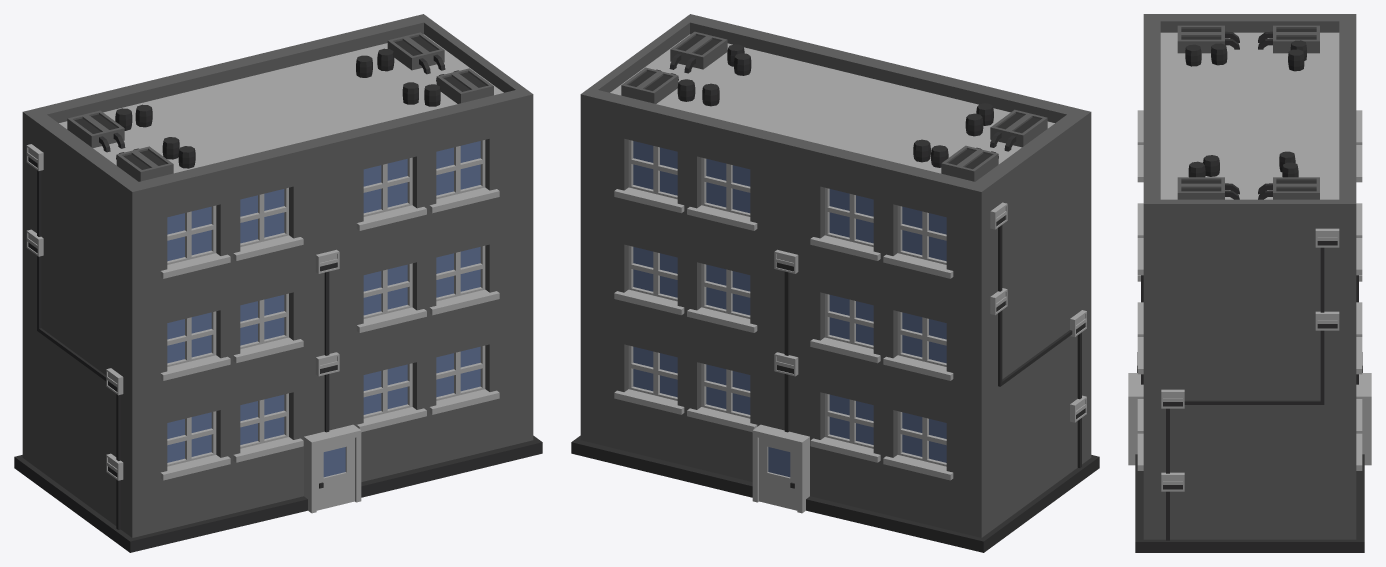
The model's file is Building1_1.fbx.
3 views of the same model, side by side, from view 1: azimuth 30°, elevation 25°; view 2: azimuth 150°, elevation 25°; view 3: azimuth 270°, elevation 25° (orthographic). The views are drawn at different scales.
Parts seen in each view (by area): view 1: Building1_1; view 2: Building1_1; view 3: Building1_1.
Boxes of the visible parts, x1,y1,x2,y2 form: Building1_1: [14, 14, 542, 552]; Building1_1: [571, 14, 1099, 552]; Building1_1: [1128, 14, 1371, 552].
Bounding box in the file's own units: 775 × 652 × 410.
